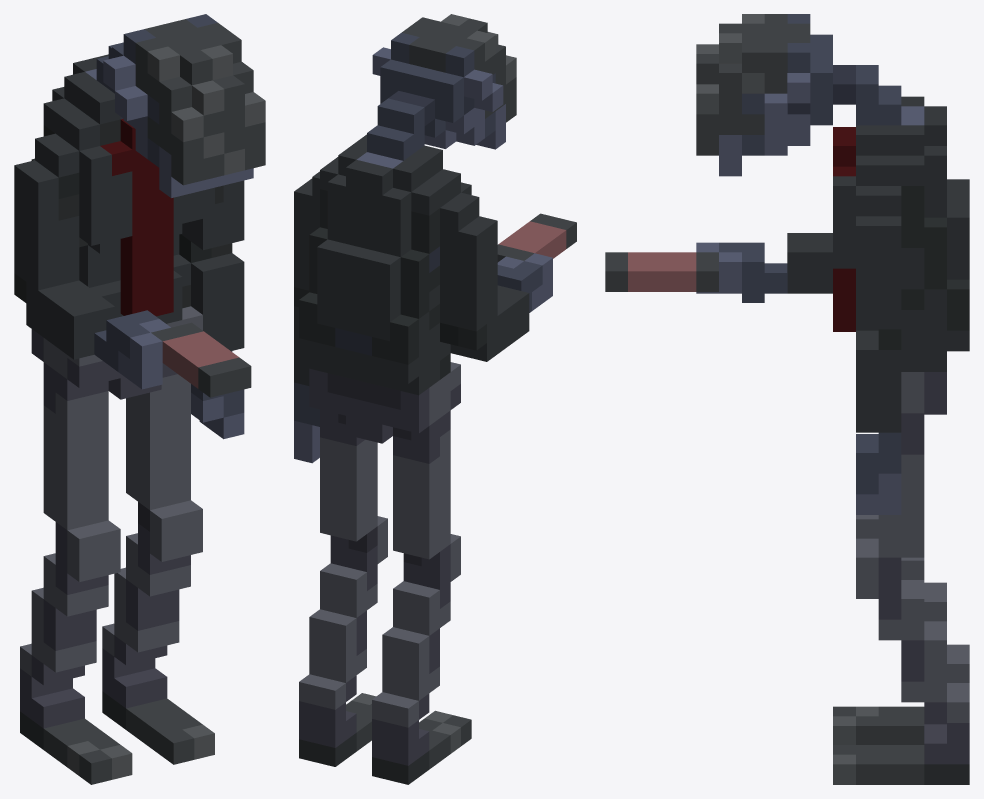
File: PhoneAddict-1-Man.glb
3 renders of one model, left to right at view 1: azimuth 30°, elevation 25°; view 2: azimuth 150°, elevation 25°; view 3: azimuth 270°, elevation 25°, orthographic. The views are drawn at different scales.
Visible parts, largest first — view 1: PhoneAddict-1-Man; view 2: PhoneAddict-1-Man; view 3: PhoneAddict-1-Man.
Boxes of the visible parts, left/top/right/bottom form: PhoneAddict-1-Man: left=14, top=14, right=265, bottom=784; PhoneAddict-1-Man: left=294, top=14, right=576, bottom=784; PhoneAddict-1-Man: left=605, top=14, right=969, bottom=784.
Bounding box in the file's own units: 0.9999 × 3.5 × 1.6.
1 material, 1 textured.
